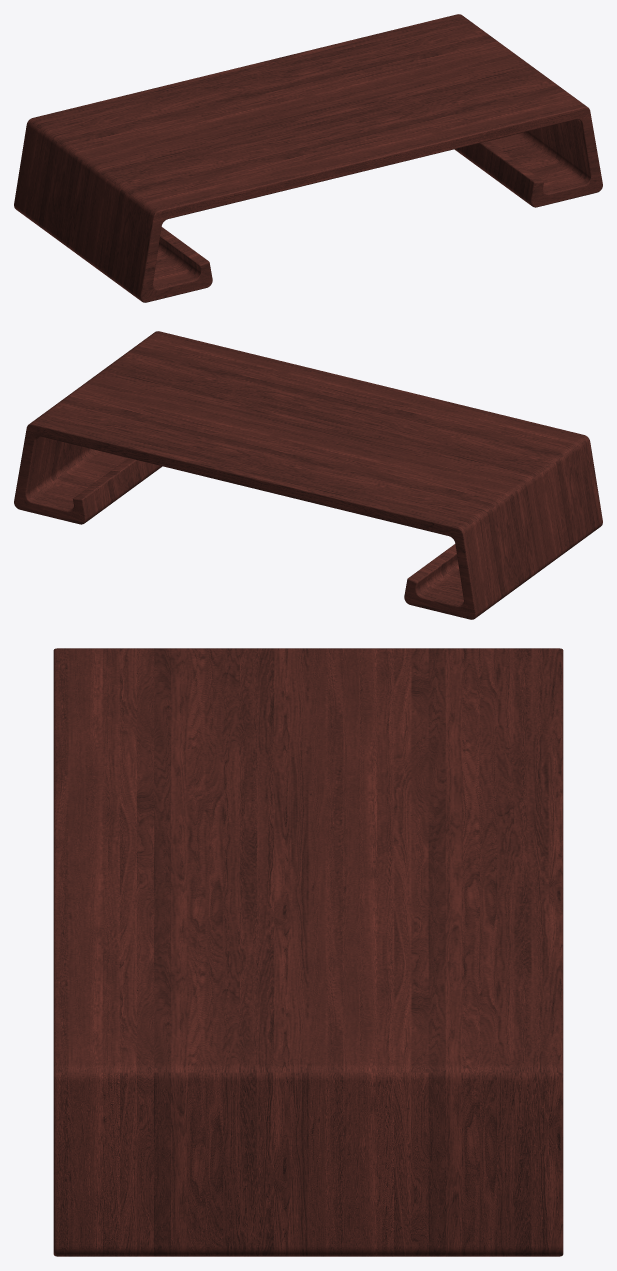
The model's file is ST-矮桌子.fbx.
3 renders of one model, top to bottom at view 1: azimuth 30°, elevation 25°; view 2: azimuth 150°, elevation 25°; view 3: azimuth 270°, elevation 25°, orthographic. The views are drawn at different scales.
Parts seen in each view (by area): view 1: ST-矮桌子; view 2: ST-矮桌子; view 3: ST-矮桌子.
Part boxes in pixels (x1,y1,x2,y2): ST-矮桌子: (14,14,602,302); ST-矮桌子: (14,331,602,619); ST-矮桌子: (53,648,563,1256).
Bounding box in the file's own units: 1.63 × 0.778 × 0.3003.
